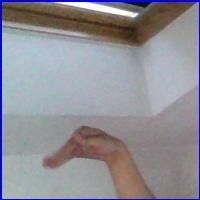del: (41, 125, 127, 180)
